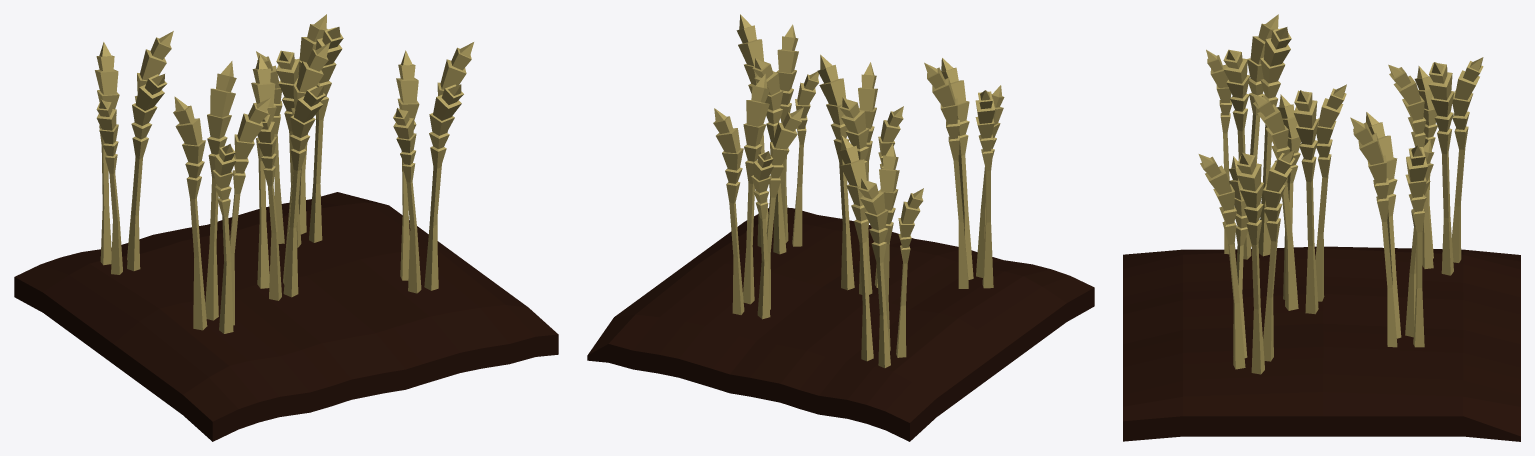
Rendered from farm.glb.
3 views of the same model, side by side, from view 1: azimuth 30°, elevation 25°; view 2: azimuth 150°, elevation 25°; view 3: azimuth 270°, elevation 25° (orthographic). The views are drawn at different scales.
Parts seen in each view (by area): view 1: Cube.021, Wheat.004, Wheat, Wheat.001, Wheat.002, Wheat.003; view 2: Cube.021, Wheat.003, Wheat.002, Wheat.004, Wheat.001, Wheat; view 3: Cube.021, Wheat.001, Wheat, Wheat.002, Wheat.003, Wheat.004.
Boxes of the visible parts, box(x1,y1,x2,y2) form: Cube.021: box(14, 192, 558, 441); Wheat.004: box(173, 61, 270, 333); Wheat: box(251, 42, 330, 300); Wheat.001: box(393, 42, 473, 293); Wheat.002: box(95, 31, 173, 274); Wheat.003: box(256, 14, 343, 247); Cube.021: box(587, 207, 1094, 441); Wheat.003: box(713, 74, 803, 319); Wheat.002: box(838, 135, 923, 368); Wheat.004: box(924, 58, 1004, 288); Wheat.001: box(736, 14, 818, 254); Wheat: box(817, 54, 903, 294); Cube.021: box(1123, 246, 1520, 441); Wheat.001: box(1198, 149, 1294, 374); Wheat: box(1252, 84, 1346, 314); Wheat.002: box(1388, 57, 1483, 275); Wheat.003: box(1350, 112, 1434, 347); Wheat.004: box(1206, 14, 1291, 259).
Bounding box in the file's own units: 8.25 × 6.77 × 8.19.
